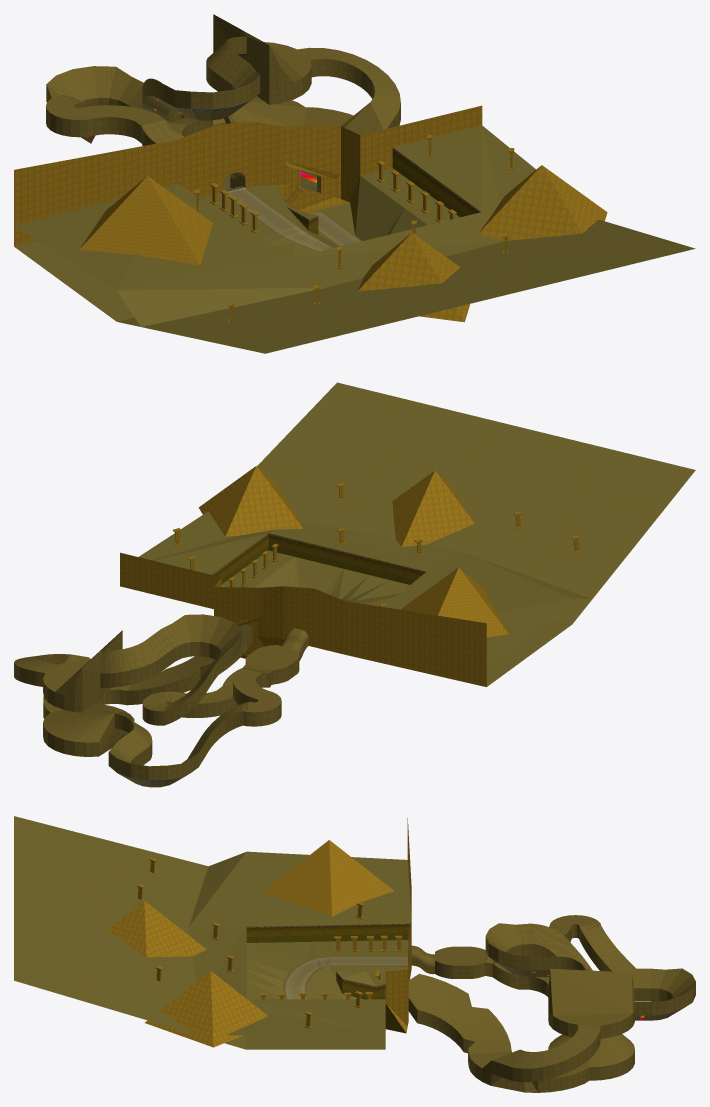
3 renders of one model, top to bottom at view 1: azimuth 30°, elevation 25°; view 2: azimuth 150°, elevation 25°; view 3: azimuth 270°, elevation 25°, orthographic. The views are drawn at different scales.
Parts seen in each view (by area): view 1: Desert_of_the_Two_Roads-SKP--c.001, Desert_of_the_Two_Roads-SKP--Sans_titre_1.001, Desert_of_the_Two_Roads-SKP--w.001, Desert_of_the_Two_Roads-SKP--b.001, Desert_of_the_Two_Roads-SKP--d.001, Desert_of_the_Two_Roads-SKP--y.001; view 2: Desert_of_the_Two_Roads-SKP--c.001, Desert_of_the_Two_Roads-SKP--Sans_titre_1.001, Desert_of_the_Two_Roads-SKP--w.001, Desert_of_the_Two_Roads-SKP--d.001; view 3: Desert_of_the_Two_Roads-SKP--c.001, Desert_of_the_Two_Roads-SKP--w.001, Desert_of_the_Two_Roads-SKP--Sans_titre_1.001, Desert_of_the_Two_Roads-SKP--d.001, Desert_of_the_Two_Roads-SKP--b.001, Desert_of_the_Two_Roads-SKP--y.001.
Boxes of the visible parts, x1,y1,x2,y2 form: Desert_of_the_Two_Roads-SKP--c.001: (14,125,695,353); Desert_of_the_Two_Roads-SKP--Sans_titre_1.001: (14,105,607,322); Desert_of_the_Two_Roads-SKP--w.001: (46,14,400,192); Desert_of_the_Two_Roads-SKP--b.001: (226,188,362,251); Desert_of_the_Two_Roads-SKP--d.001: (287,147,480,234); Desert_of_the_Two_Roads-SKP--y.001: (81,54,316,191); Desert_of_the_Two_Roads-SKP--c.001: (139,382,695,686); Desert_of_the_Two_Roads-SKP--Sans_titre_1.001: (120,466,580,686); Desert_of_the_Two_Roads-SKP--w.001: (14,614,308,780); Desert_of_the_Two_Roads-SKP--d.001: (212,533,425,639); Desert_of_the_Two_Roads-SKP--c.001: (14,816,411,1049); Desert_of_the_Two_Roads-SKP--w.001: (408,915,695,1092); Desert_of_the_Two_Roads-SKP--Sans_titre_1.001: (107,818,411,1047); Desert_of_the_Two_Roads-SKP--d.001: (246,923,410,1033); Desert_of_the_Two_Roads-SKP--b.001: (282,956,407,999); Desert_of_the_Two_Roads-SKP--y.001: (495,961,678,1020).
Size of the model in its own units: 142352 by 43256 by 228496.
14 materials, 14 textured.
